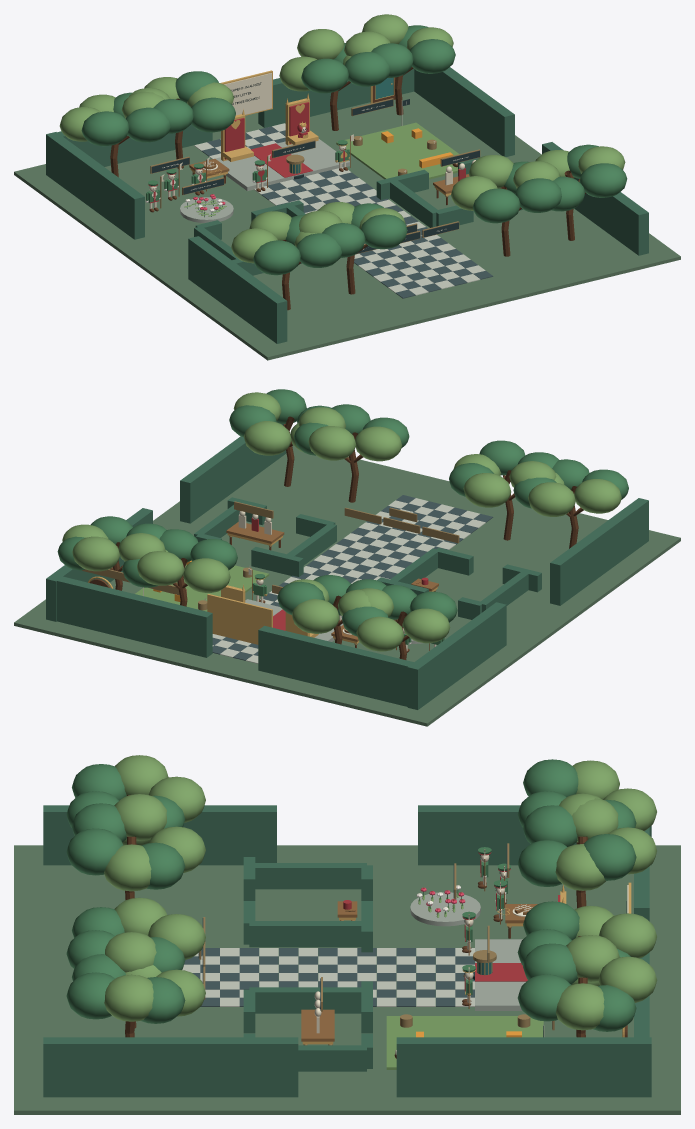
File: court.glb
3 renders of one model, top to bottom at view 1: azimuth 30°, elevation 25°; view 2: azimuth 150°, elevation 25°; view 3: azimuth 270°, elevation 25°, orthographic. The views are drawn at different scales.
Visible parts, largest first — view 1: court ground, architecture_hedge, architecture_leaf, architecture_leaflight, architecture_whitetile, architecture_blacktile, croquet lawn, architecture_wood, court stage, architecture_red, decree panel, architecture_gold (+1 smaller); view 2: architecture_hedge, court ground, architecture_leaflight, architecture_leaf, architecture_blacktile, architecture_whitetile, architecture_wood, decree frame, croquet lawn, architecture_gold, table top.002; view 3: court ground, architecture_hedge, architecture_leaflight, architecture_leaf, architecture_whitetile, architecture_blacktile, croquet lawn, court stage, rose bed, table top.002, architecture_red, architecture_wood.
Boxes of the visible parts, x1,y1,x2,y2 form: court ground: (14,91,680,360); architecture_hedge: (46,67,648,343); architecture_leaf: (81,25,627,275); architecture_leaflight: (59,14,625,263); architecture_whitetile: (194,123,485,295); architecture_blacktile: (201,126,493,298); croquet lawn: (336,122,459,179); architecture_wood: (110,67,585,310); court stage: (215,139,349,190); architecture_red: (224,102,312,177); decree panel: (224,73,271,115); architecture_gold: (221,93,318,161); architecture_hedge: (46,424,648,709); court ground: (14,445,680,726); architecture_leaflight: (62,392,621,651); architecture_leaf: (57,389,628,636); architecture_blacktile: (212,495,493,660); architecture_whitetile: (212,498,485,663); architecture_wood: (109,416,583,659); decree frame: (207,594,272,644); croquet lawn: (135,564,269,611); architecture_gold: (221,584,318,637); table top.002: (226,522,284,543); court ground: (14,845,680,1114); architecture_hedge: (43,805,651,1097); architecture_leaflight: (104,755,657,1030); architecture_leaf: (66,759,636,1031); architecture_whitetile: (182,948,474,1006); architecture_blacktile: (184,948,474,1006); croquet lawn: (386,1016,543,1069); court stage: (475,939,525,1010); rose bed: (410,892,480,926); table top.002: (301,1009,334,1041); architecture_red: (475,895,560,981); architecture_wood: (125,795,587,1037).
Size of the model in its own units: 32 by 6.54 by 34.
